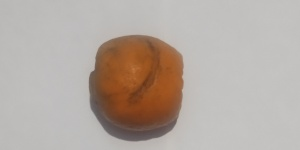BAD: (93, 34, 184, 129)
